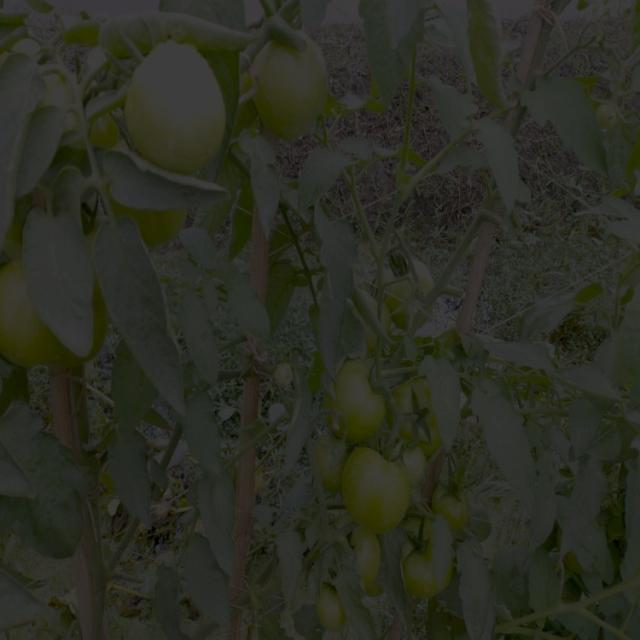tomato: (125, 37, 224, 171), (1, 250, 108, 368), (253, 27, 330, 134), (38, 63, 122, 147), (373, 255, 437, 334), (391, 378, 459, 450), (320, 354, 381, 434), (348, 457, 414, 530), (111, 200, 194, 249), (408, 534, 459, 596), (346, 535, 381, 589), (557, 522, 590, 574), (433, 481, 469, 524), (311, 443, 345, 488), (318, 584, 344, 627), (590, 101, 623, 130)
